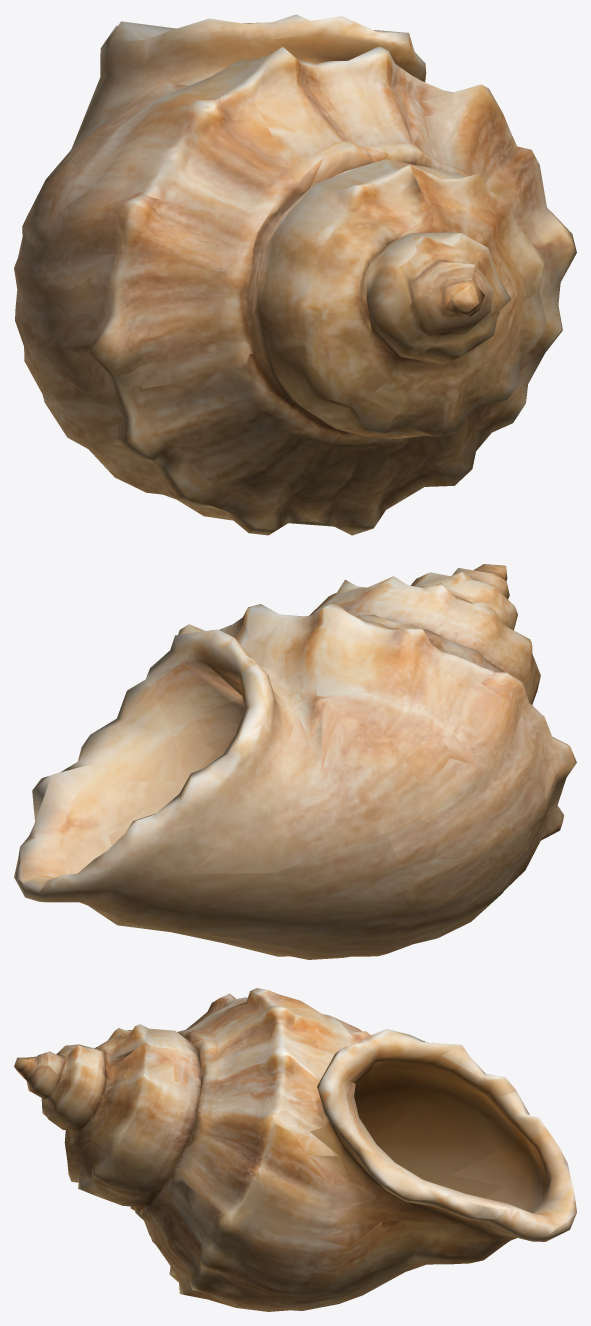
File: shell-spiral-v1.glb
The picture shows the model from 3 angles, top to bottom: view 1: azimuth 30°, elevation 25°; view 2: azimuth 150°, elevation 25°; view 3: azimuth 270°, elevation 25°; orthographic projection. The views are drawn at different scales.
Visible parts, largest first — view 1: tripo_node_229de5a0-efeb-4c02-8685-2ab2aba3d33b; view 2: tripo_node_229de5a0-efeb-4c02-8685-2ab2aba3d33b; view 3: tripo_node_229de5a0-efeb-4c02-8685-2ab2aba3d33b.
Part boxes in pixels (<box>): tripo_node_229de5a0-efeb-4c02-8685-2ab2aba3d33b: <box>14,14,576,535</box>; tripo_node_229de5a0-efeb-4c02-8685-2ab2aba3d33b: <box>14,564,576,959</box>; tripo_node_229de5a0-efeb-4c02-8685-2ab2aba3d33b: <box>14,988,576,1311</box>.
Size of the model in its own units: 0.1809 by 0.1506 by 0.2696.
1 material, 1 textured.
